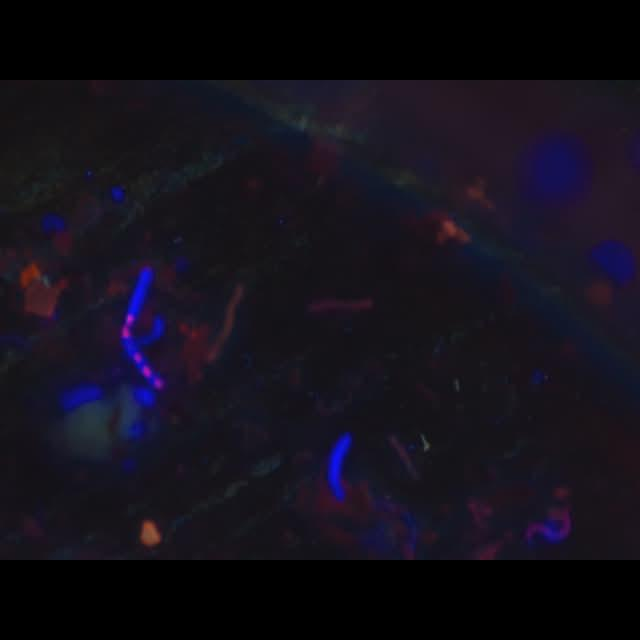Fragment: (140, 520, 160, 546)
